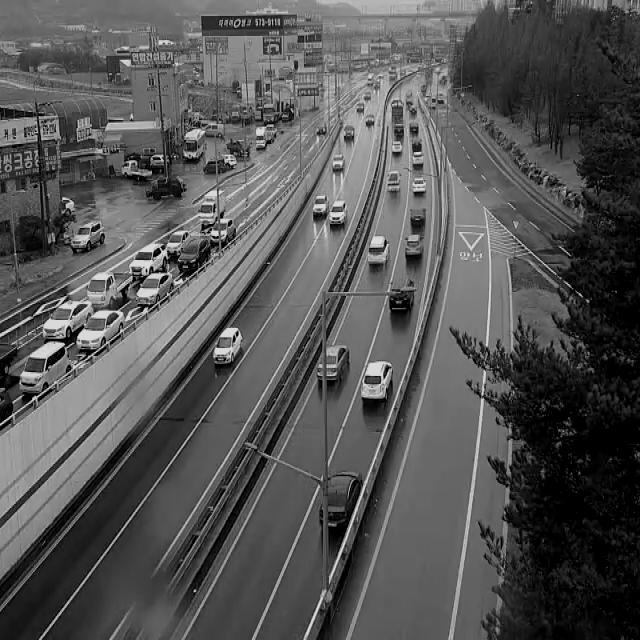Bus: (183, 128, 206, 160)
Car: (19, 342, 71, 394), (318, 471, 364, 529), (43, 301, 93, 340), (77, 311, 124, 349), (129, 244, 167, 278), (316, 346, 349, 382), (361, 362, 393, 399), (136, 274, 173, 306), (71, 220, 105, 254), (213, 328, 243, 366), (178, 239, 211, 272), (389, 278, 414, 312), (210, 219, 236, 245), (368, 236, 390, 266), (166, 231, 190, 257), (138, 155, 164, 173), (405, 235, 424, 258), (330, 202, 348, 226), (0, 387, 13, 420), (230, 139, 250, 159), (201, 123, 225, 138), (313, 195, 329, 217), (409, 208, 427, 227), (202, 159, 224, 174), (61, 197, 75, 216), (412, 178, 426, 195), (223, 155, 237, 170), (150, 155, 170, 165), (333, 155, 345, 170), (281, 109, 294, 122), (413, 152, 424, 167), (344, 126, 355, 140), (266, 125, 277, 138), (394, 124, 404, 137), (317, 122, 327, 135), (392, 142, 402, 154), (412, 138, 422, 150), (410, 122, 419, 134), (437, 91, 445, 104), (366, 114, 374, 126), (266, 133, 274, 144), (429, 98, 436, 109), (357, 102, 364, 113), (410, 105, 417, 115), (406, 99, 413, 107), (364, 92, 371, 100)
Truck: (86, 273, 134, 309), (198, 190, 224, 228), (150, 177, 187, 200), (122, 161, 152, 181), (388, 170, 402, 192), (262, 105, 278, 123), (391, 100, 404, 120), (256, 127, 266, 150)
